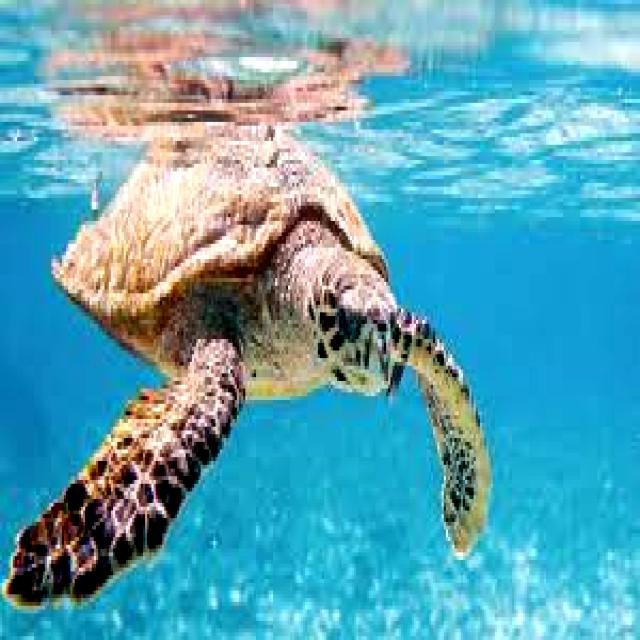Sea turtle: (62, 94, 507, 600)
